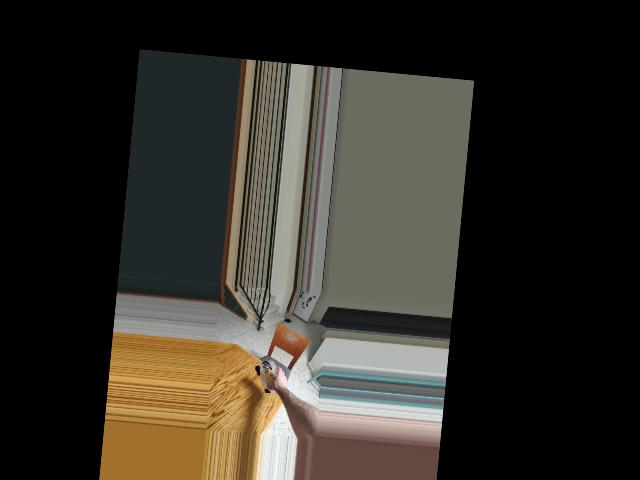cheese: (252, 358, 288, 397)
